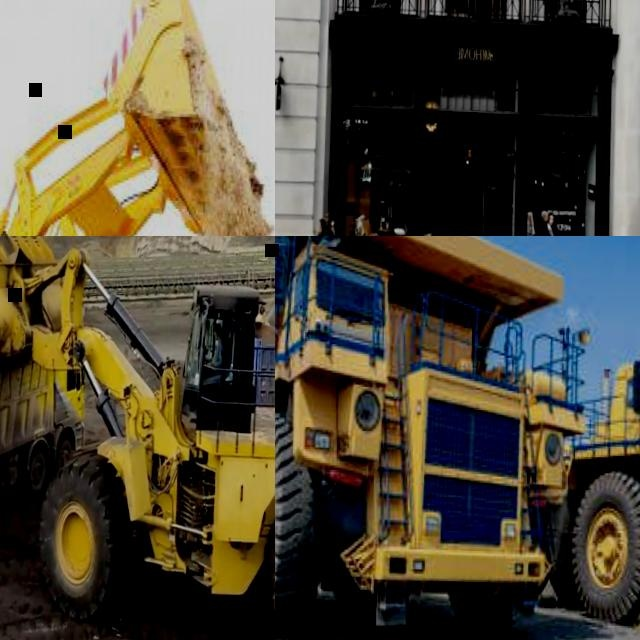NO-Hardhat: (324, 208, 333, 220), (214, 322, 222, 333), (317, 216, 324, 227), (323, 218, 328, 228), (538, 210, 545, 217), (547, 211, 553, 218)
NO-Mask: (316, 224, 320, 235), (543, 218, 548, 225), (213, 334, 218, 341), (548, 220, 552, 226)
NO-Safety Vest: (212, 340, 223, 363), (532, 228, 548, 236), (328, 223, 337, 236)
Person: (203, 321, 224, 375), (522, 209, 557, 236), (318, 207, 345, 236), (535, 208, 556, 236)
machinery: (275, 236, 590, 640), (0, 236, 275, 640), (0, 0, 275, 236), (539, 347, 640, 637), (0, 307, 88, 547), (194, 292, 275, 415)
